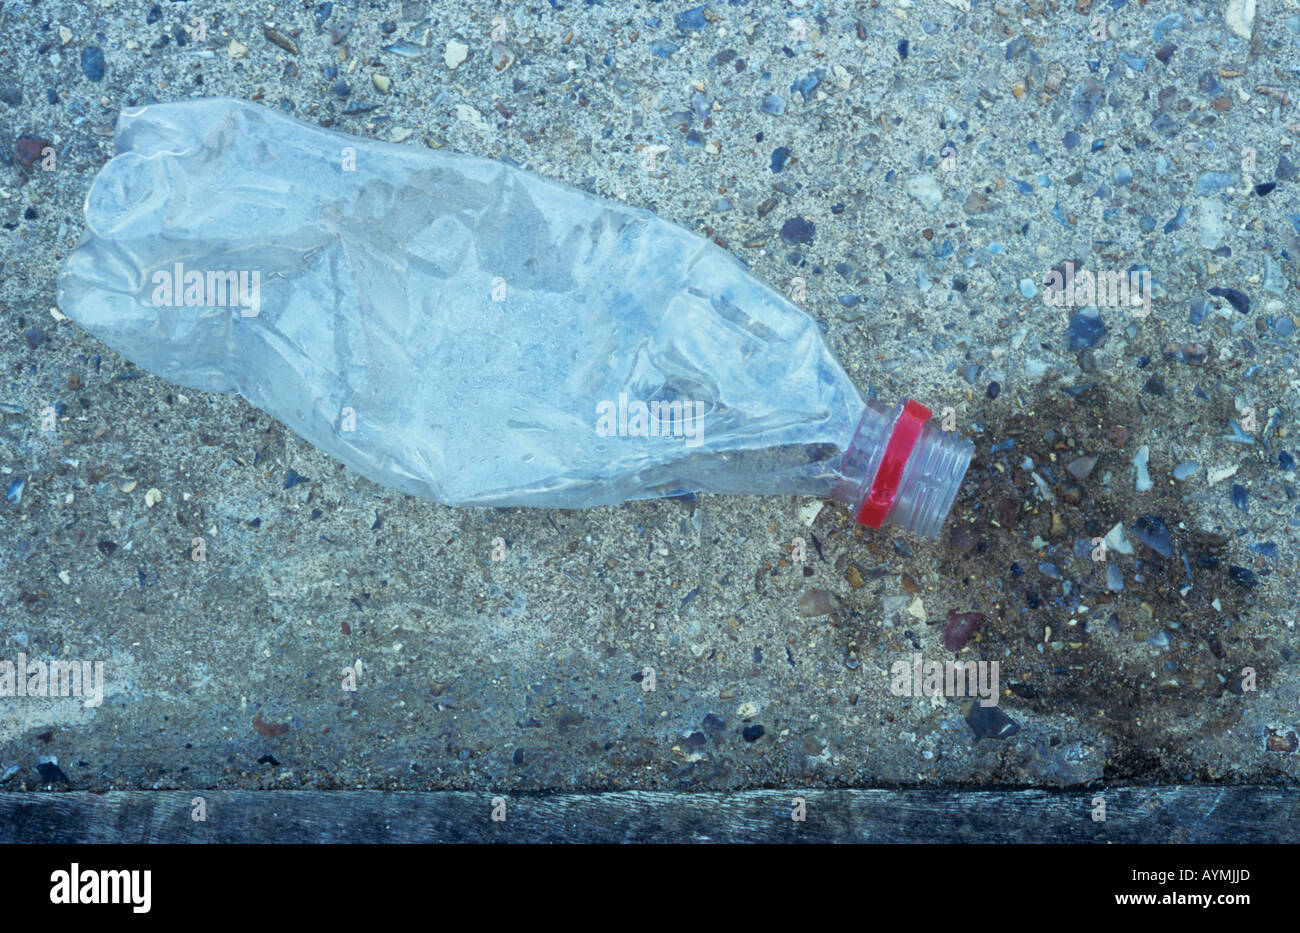plasticbottle: (48, 80, 977, 565)
